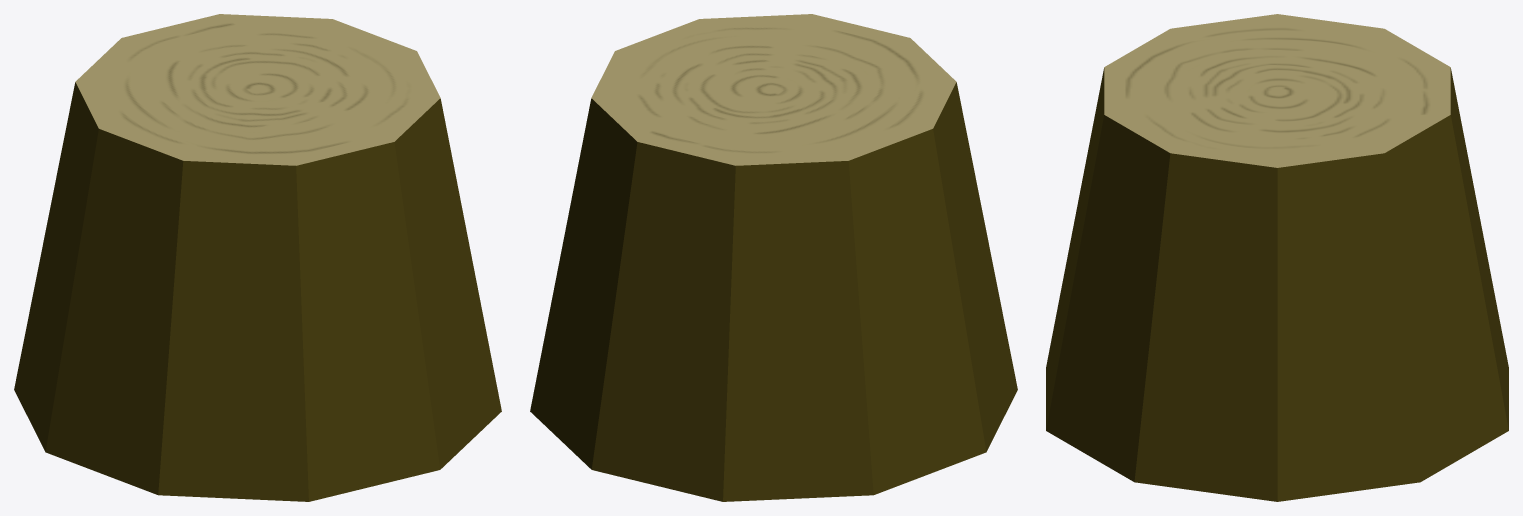
Rendered from stage02_object.fbx.
3 renders of one model, left to right at view 1: azimuth 30°, elevation 25°; view 2: azimuth 150°, elevation 25°; view 3: azimuth 270°, elevation 25°, orthographic.
Parts seen in each view (by area): view 1: tree; view 2: tree; view 3: tree.
Boxes of the visible parts, x1,y1,x2,y2 form: tree: [14, 14, 501, 501]; tree: [530, 14, 1017, 501]; tree: [1046, 14, 1508, 501].
Size of the model in its own units: 1.56 by 1.09 by 1.49.
